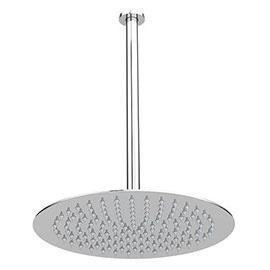Ducha: (30, 10, 236, 263)
